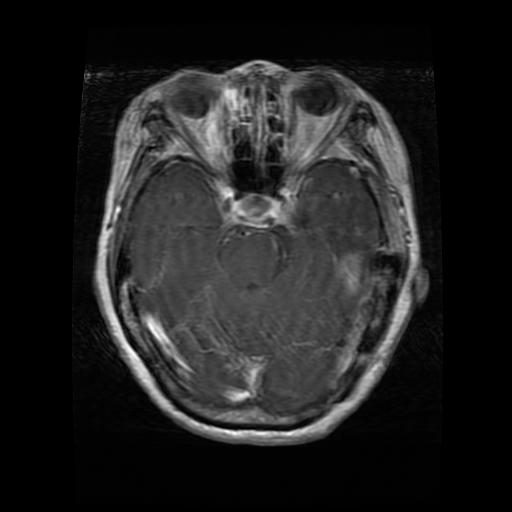Gliomia_tumour: (329, 241, 372, 298)
